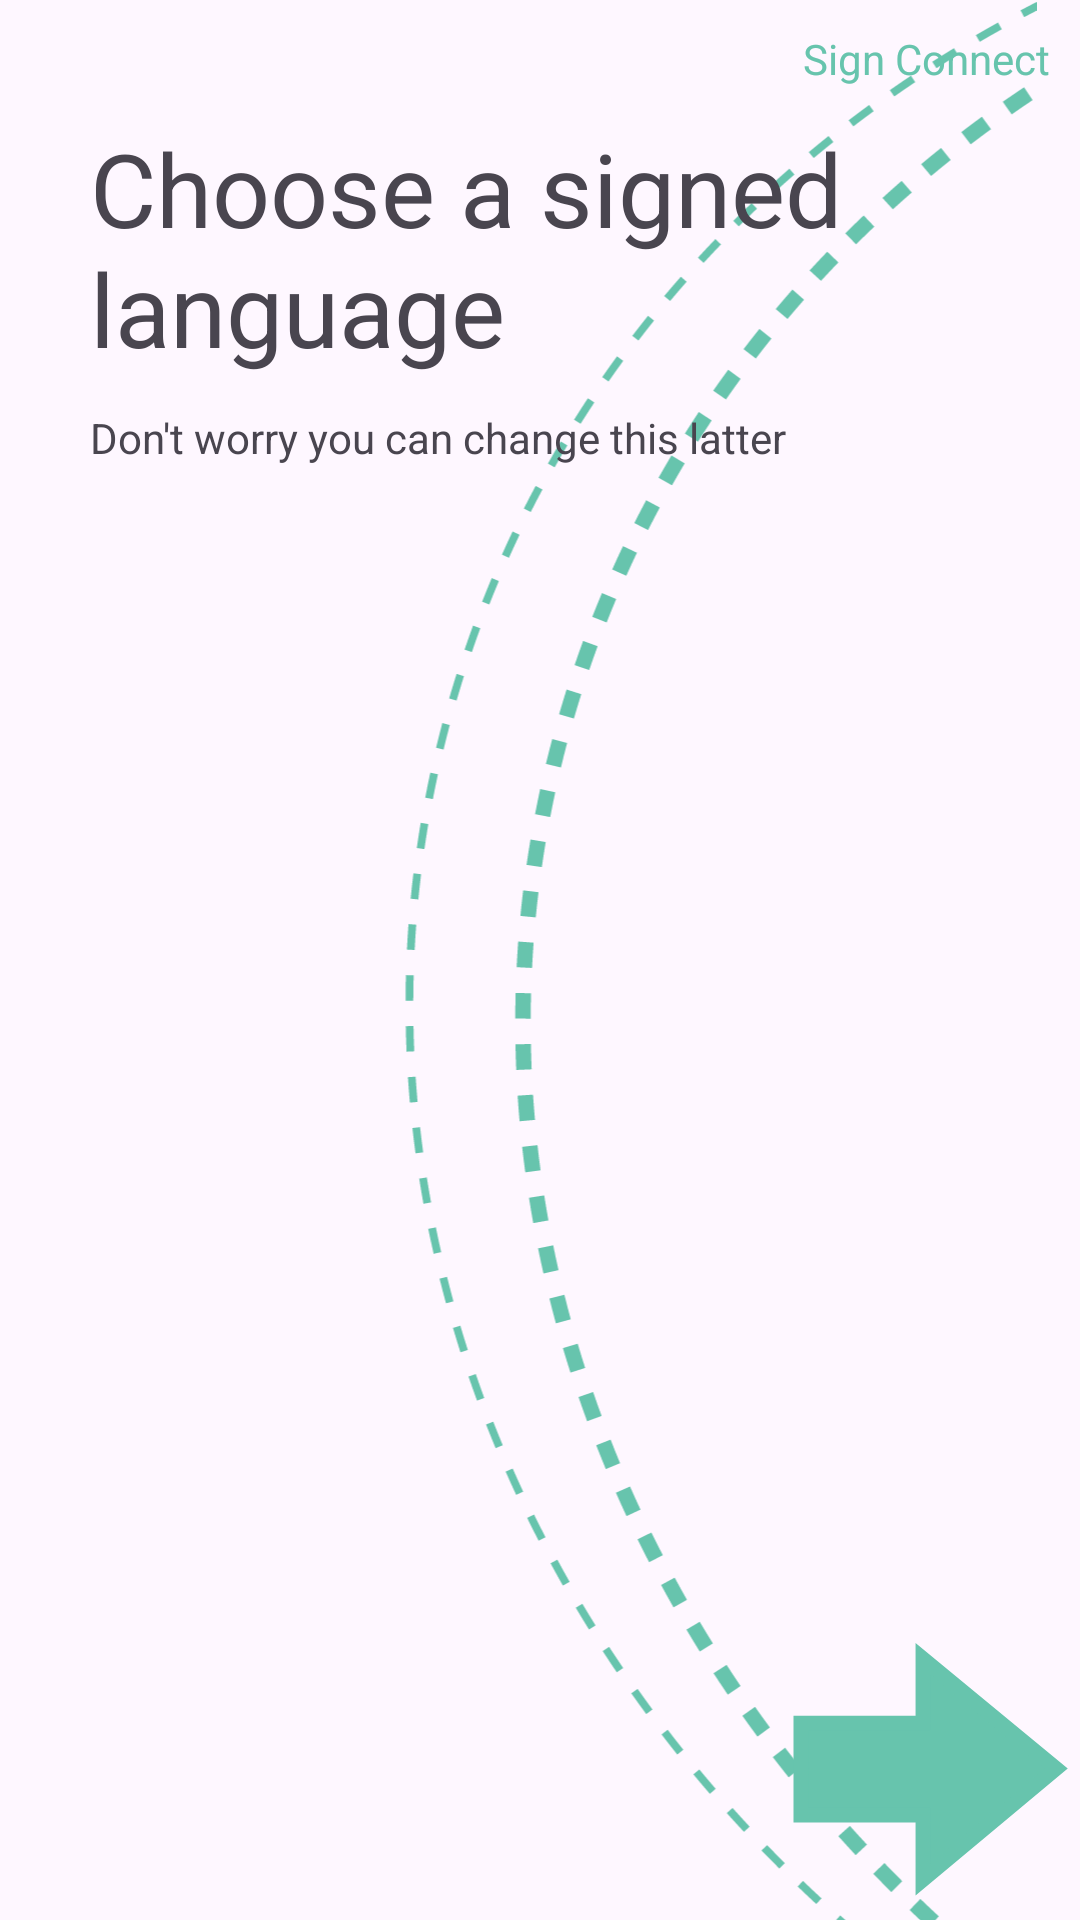

Icons on this 1080*1920 Android screen, each with the point to tap as [x,y]:
next arrow: [924,1781]
